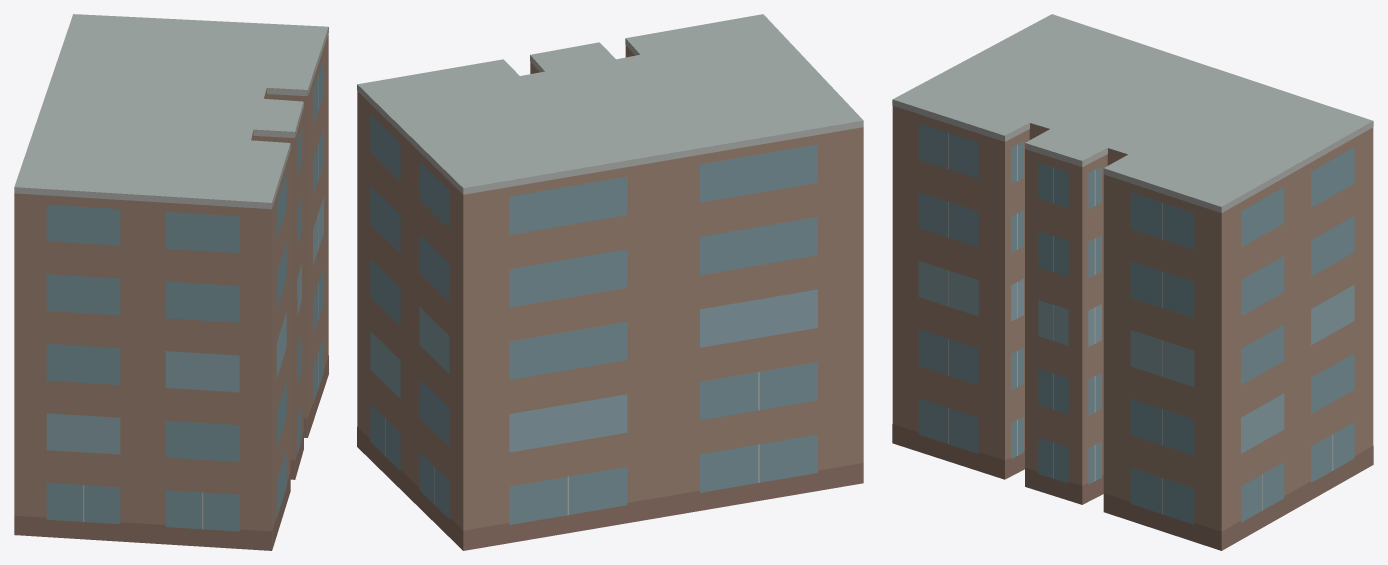
File: survey-upis-32884751.glb
The picture shows the model from 3 angles, left to right: view 1: azimuth 30°, elevation 25°; view 2: azimuth 150°, elevation 25°; view 3: azimuth 270°, elevation 25°; orthographic projection. The views are drawn at different scales.
Parts seen in each view (by area): view 1: survey-upis-32884751.tmp; view 2: survey-upis-32884751.tmp; view 3: survey-upis-32884751.tmp.
Boxes of the visible parts, x1,y1,x2,y2 form: survey-upis-32884751.tmp: [14, 14, 328, 550]; survey-upis-32884751.tmp: [357, 14, 863, 550]; survey-upis-32884751.tmp: [892, 14, 1373, 550].
Bounding box in the file's own units: 16.38 × 13.6 × 17.25.
